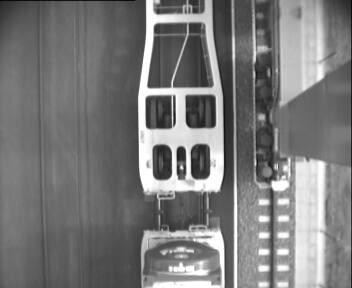wagon_scan: (147, 139, 214, 184)
